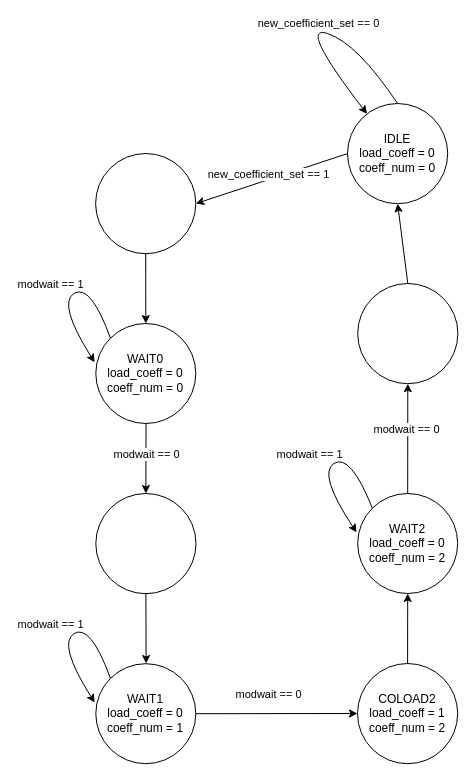
Some shapes in this 476 by 782 pixel diagram are drawn without their labels. Each missing label, with the box of its shape:
COLOAD0 load_coeff = 1 coeff_num = 0: (95, 152, 196, 254)
COLOAD1 load_coeff = 1 coeff_num = 1: (95, 492, 196, 594)
COLOAD3 load_coeff = 1 coeff_num = 3: (357, 282, 458, 384)
